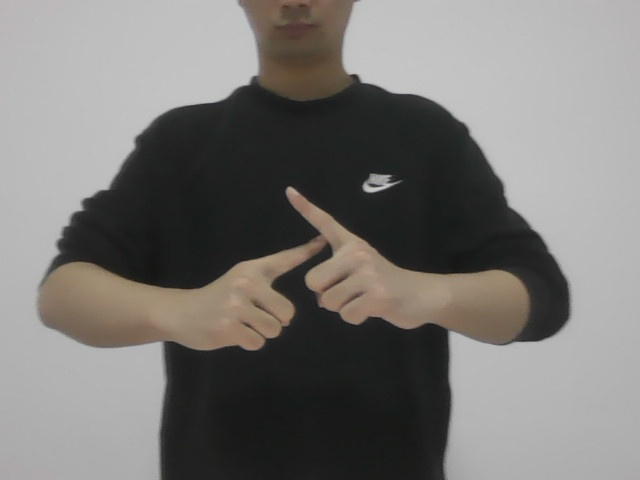peason: (194, 187, 416, 359)
